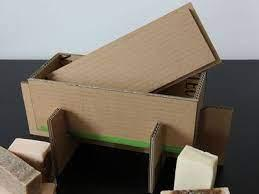cardboard: (19, 51, 205, 156), (46, 1, 220, 92), (198, 105, 232, 165), (46, 107, 70, 172), (147, 121, 165, 192)
